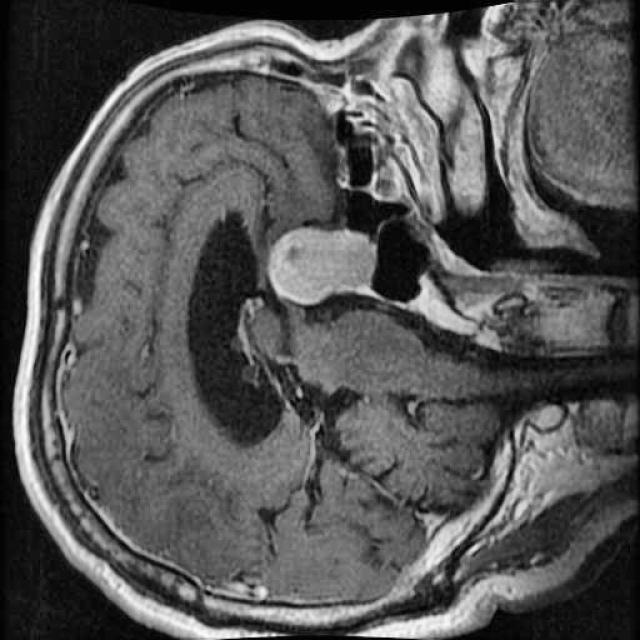Tumor: (259, 214, 384, 315)
